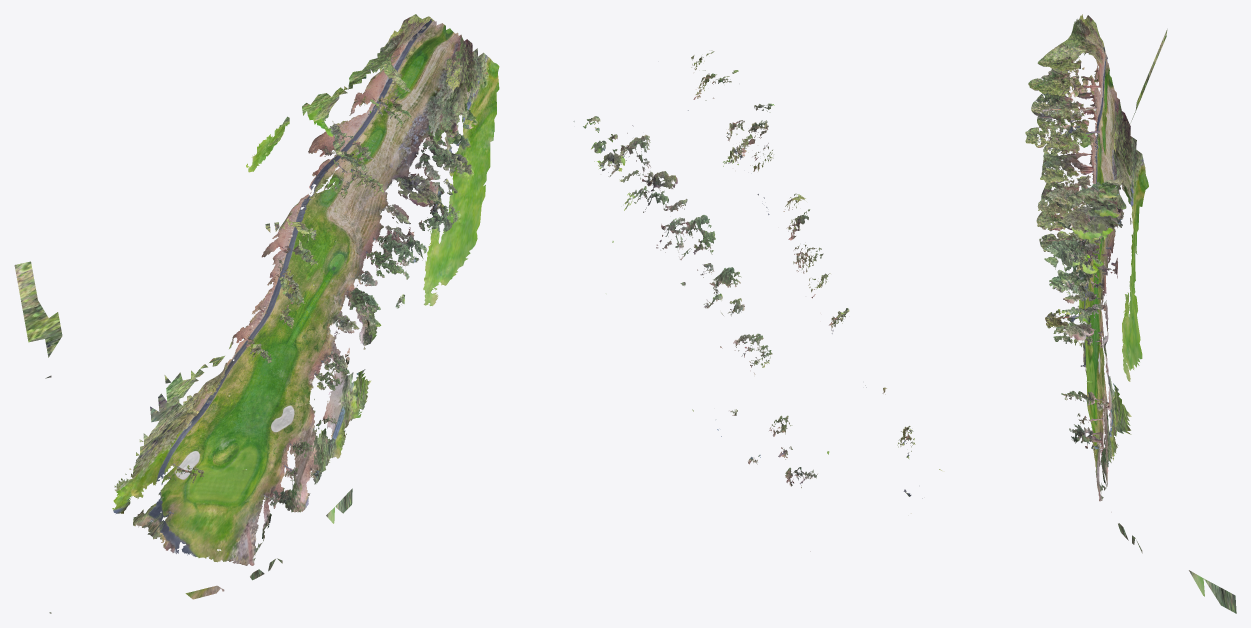
3 views of the same model, side by side, from view 1: azimuth 30°, elevation 25°; view 2: azimuth 150°, elevation 25°; view 3: azimuth 270°, elevation 25° (orthographic). The views are drawn at different scales.
Bounding box in the file's own units: 213 × 229 × 74.38.
38 materials, 38 textured.
